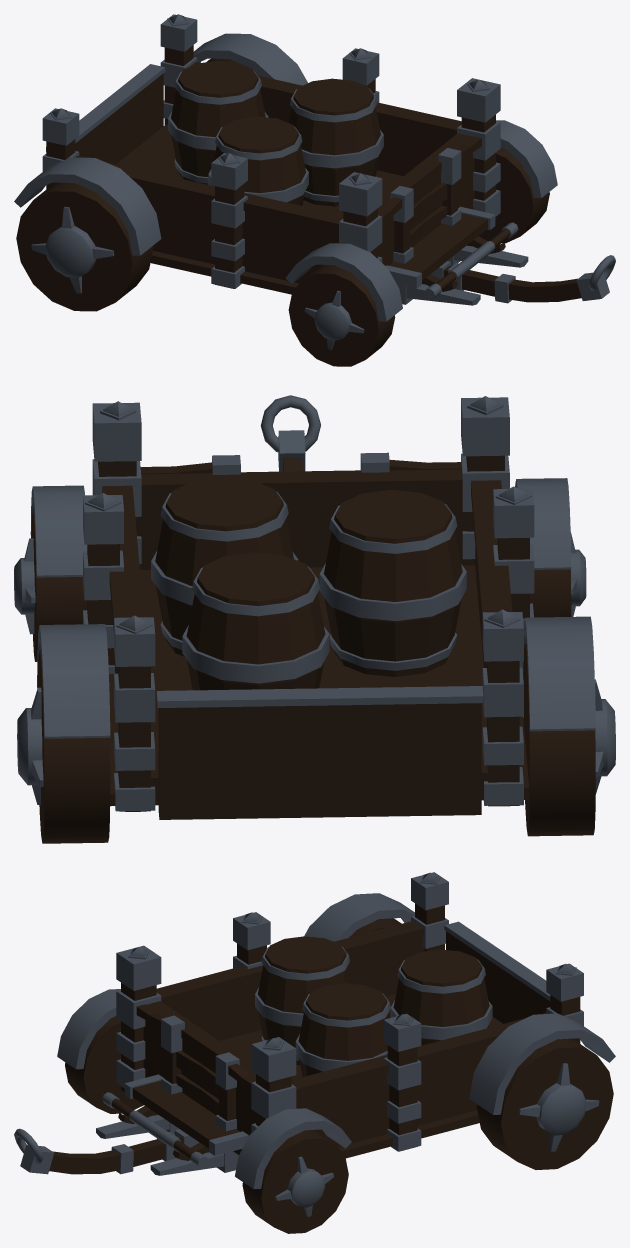
Rendered from Carriage.fbx.
The picture shows the model from 3 angles, top to bottom: view 1: azimuth 30°, elevation 25°; view 2: azimuth 150°, elevation 25°; view 3: azimuth 270°, elevation 25°; orthographic projection. The views are drawn at different scales.
Visible parts, largest first — view 1: wood-walls, wheels, barrels, columns, wheel-top, wood-plank.001, barrels-rings, metal-wood-plank, wheel-acc, horse-holder, wood-plank.002, metal-plank (+6 smaller); view 2: wood-walls, barrels, columns, wheel-top, wheels, barrels-rings, wood-plank.001, wheel-acc, metal-plank, top-acc, ring, wood-plank (+2 smaller); view 3: wood-walls, wheels, columns, barrels, wheel-top, wood-plank.001, metal-wood-plank, barrels-rings, wheel-acc, horse-holder, wood-plank.002, metal-plank (+6 smaller).
Boxes of the visible parts, x1,y1,x2,y2 form: wood-walls: (75, 73, 474, 283); wheels: (16, 58, 549, 366); barrels: (171, 61, 380, 206); columns: (42, 14, 500, 288); wheel-top: (14, 33, 557, 321); wood-plank.001: (75, 62, 473, 294); barrels-rings: (168, 70, 383, 202); metal-wood-plank: (390, 148, 528, 305); wheel-acc: (31, 206, 364, 350); horse-holder: (431, 261, 609, 303); wood-plank.002: (389, 213, 487, 280); metal-plank: (46, 64, 165, 151); wood-walls: (114, 491, 509, 819); barrels: (155, 477, 462, 690); columns: (83, 397, 534, 811); wheel-top: (30, 478, 595, 738); wheels: (31, 512, 595, 843); barrels-rings: (151, 491, 466, 683); wood-plank.001: (102, 469, 529, 806); wheel-acc: (14, 532, 615, 804); metal-plank: (156, 686, 483, 707); top-acc: (85, 396, 531, 633); ring: (260, 395, 320, 452); wood-plank: (140, 459, 461, 474); wood-walls: (143, 931, 550, 1146); wheels: (65, 918, 613, 1233); columns: (116, 872, 583, 1151); barrels: (258, 936, 489, 1076); wheel-top: (57, 893, 615, 1189); wood-plank.001: (145, 921, 549, 1158); metal-wood-plank: (96, 1015, 239, 1175); barrels-rings: (255, 946, 492, 1071); wheel-acc: (275, 1063, 599, 1216); horse-holder: (20, 1129, 199, 1174); wood-plank.002: (132, 1080, 239, 1148); metal-plank: (444, 921, 550, 1000).
Bounding box in the file's own units: 1334 × 472 × 1478.
